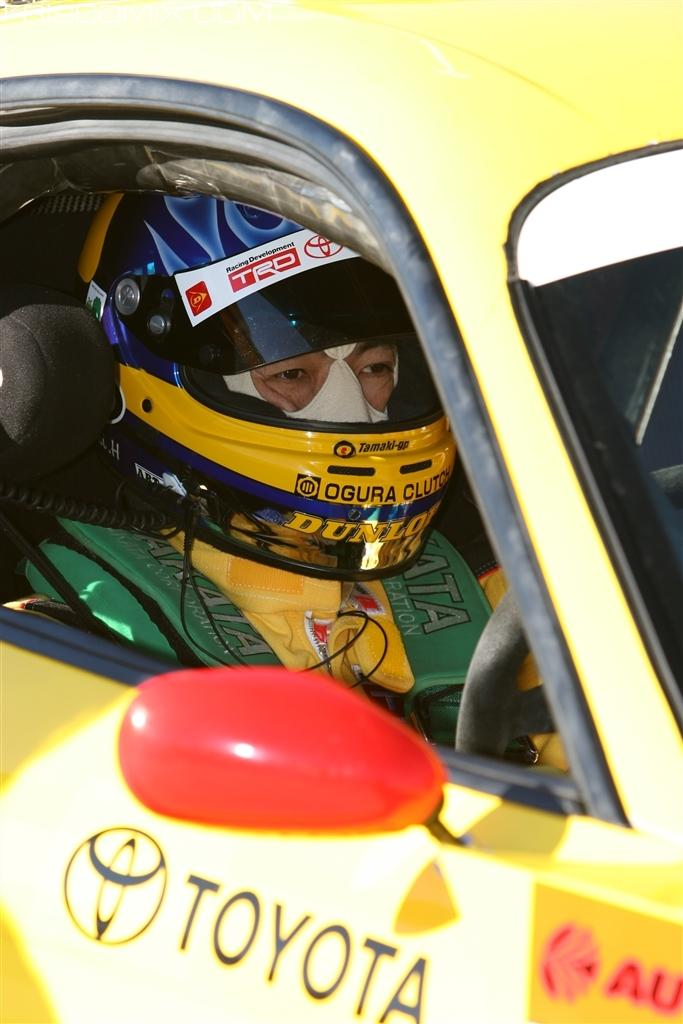helmet: (70, 126, 458, 583)
